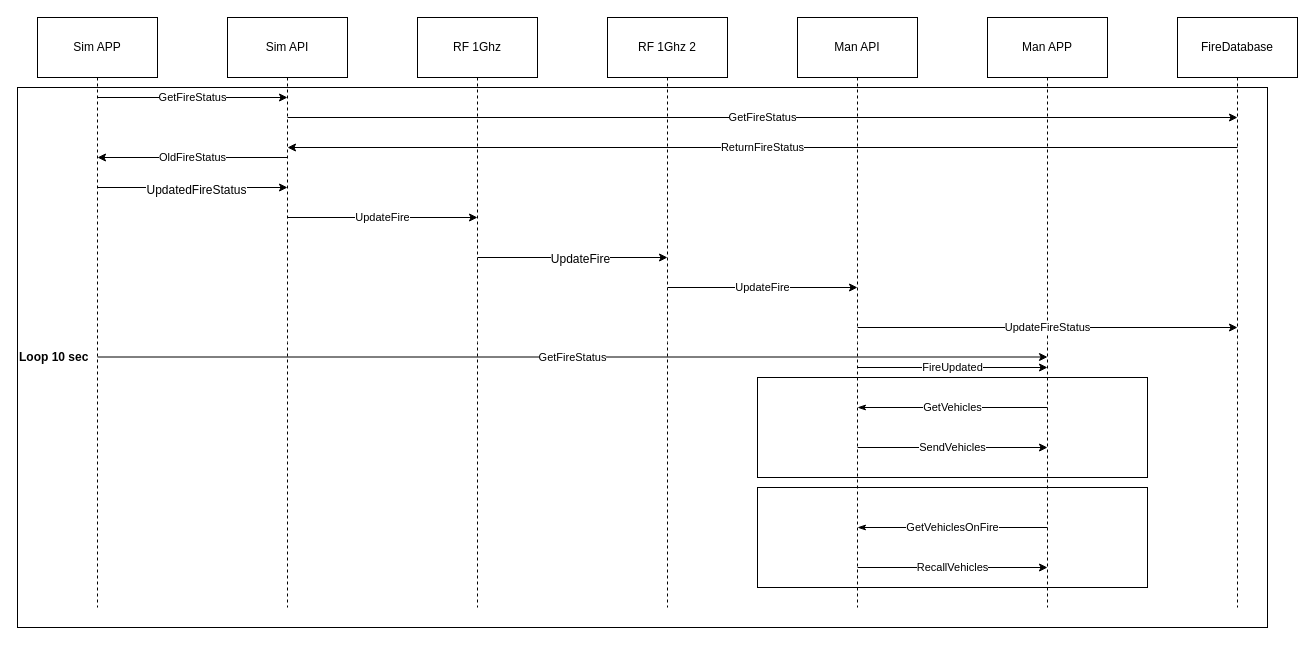
The diagram is 1315 pixels wide and 645 high, and some of its shapes have lost their labels. The centre of each missing label's shape, as x and y in pixels:
Fire is Stronger: the point at 952,427
No More Fire: the point at 952,537
